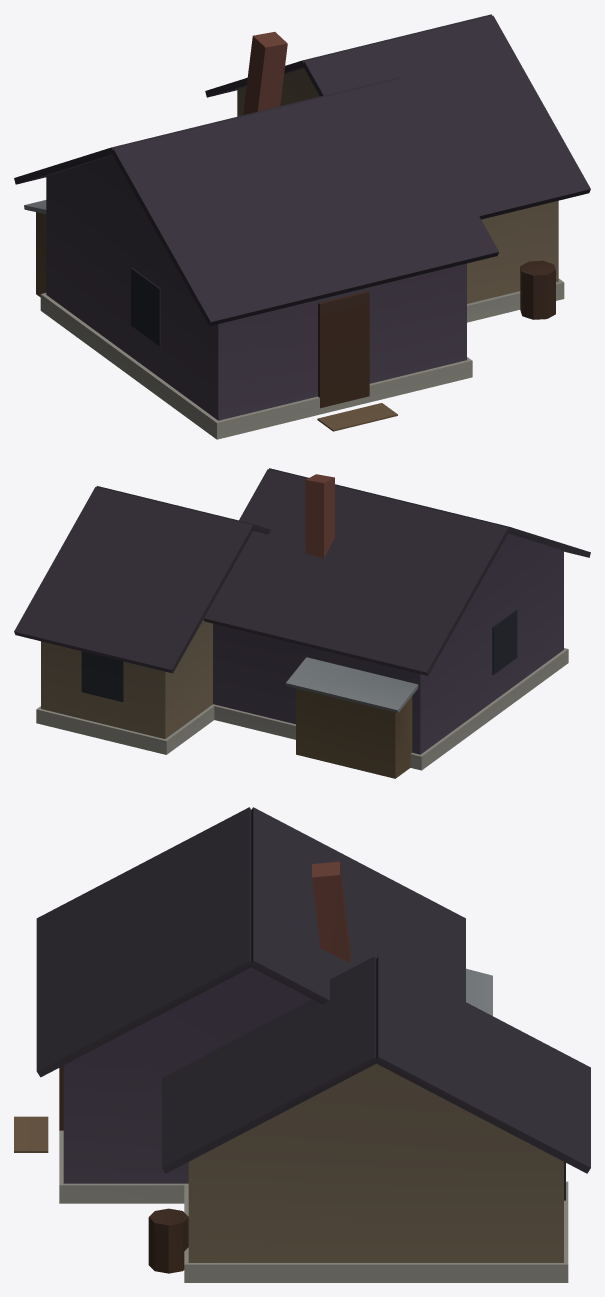
The model's file is shell_derelict_lshape_lod1.glb.
3 views of the same model, one above another, from view 1: azimuth 30°, elevation 25°; view 2: azimuth 150°, elevation 25°; view 3: azimuth 270°, elevation 25° (orthographic). The views are drawn at different scales.
Parts seen in each view (by area): view 1: shell_derelict_lshape_lod1; view 2: shell_derelict_lshape_lod1; view 3: shell_derelict_lshape_lod1.
Part boxes in pixels (x1,y1,x2,y2): shell_derelict_lshape_lod1: [14, 14, 590, 439]; shell_derelict_lshape_lod1: [14, 468, 590, 778]; shell_derelict_lshape_lod1: [14, 807, 590, 1282].
Bounding box in the file's own units: 8.8 × 5.18 × 9.22.
